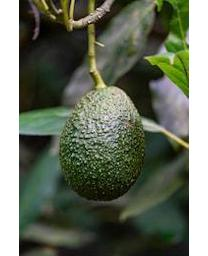avocado: (58, 85, 145, 203)
